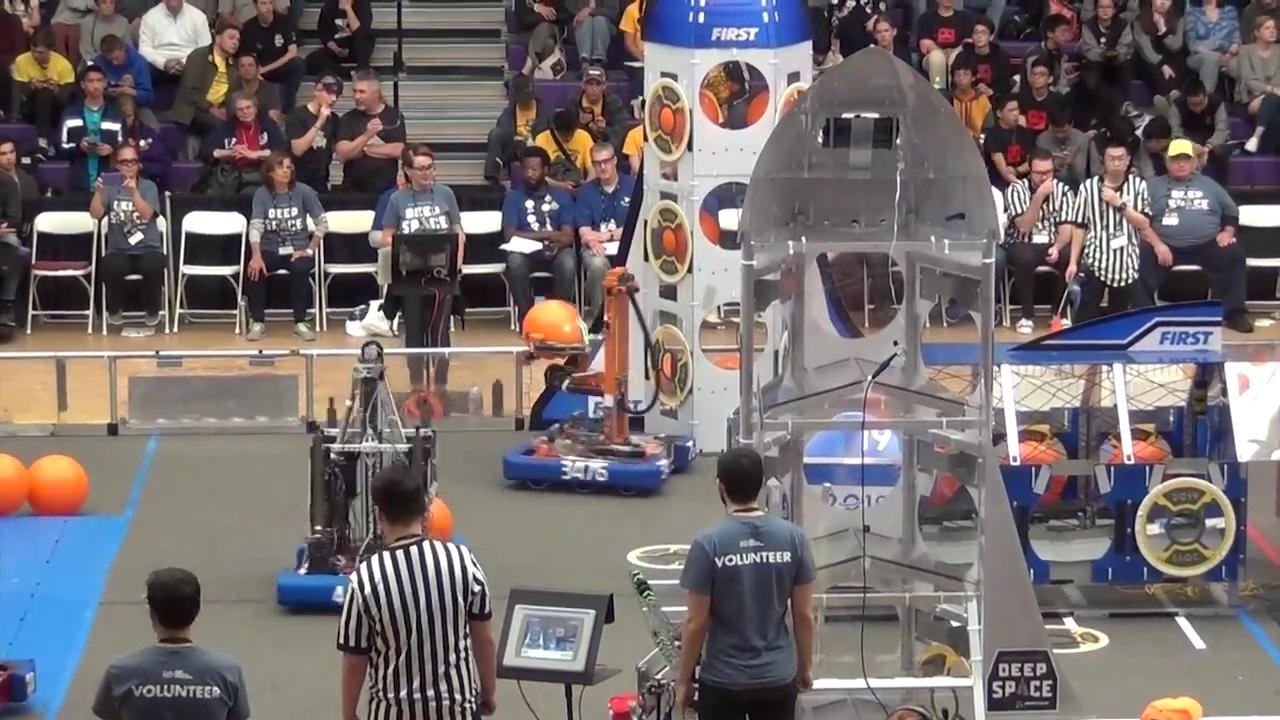robot: (273, 335, 478, 618), (500, 262, 698, 501)
